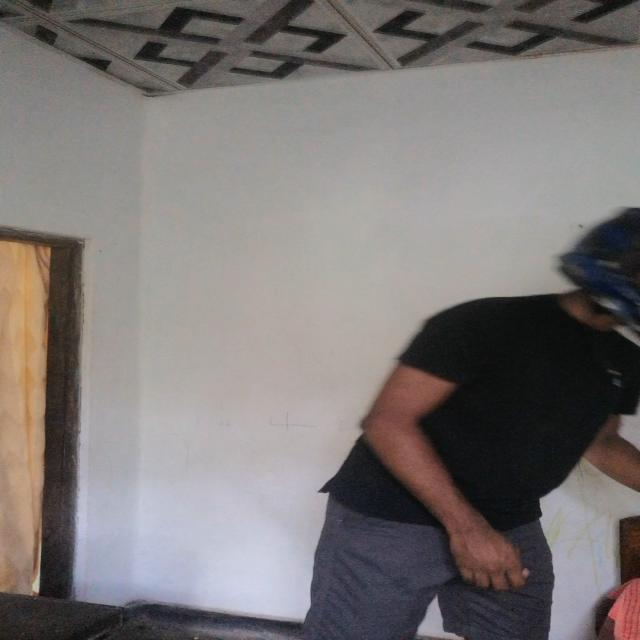Helmet_Wearer: (541, 191, 640, 336)
Person: (289, 183, 640, 634)
